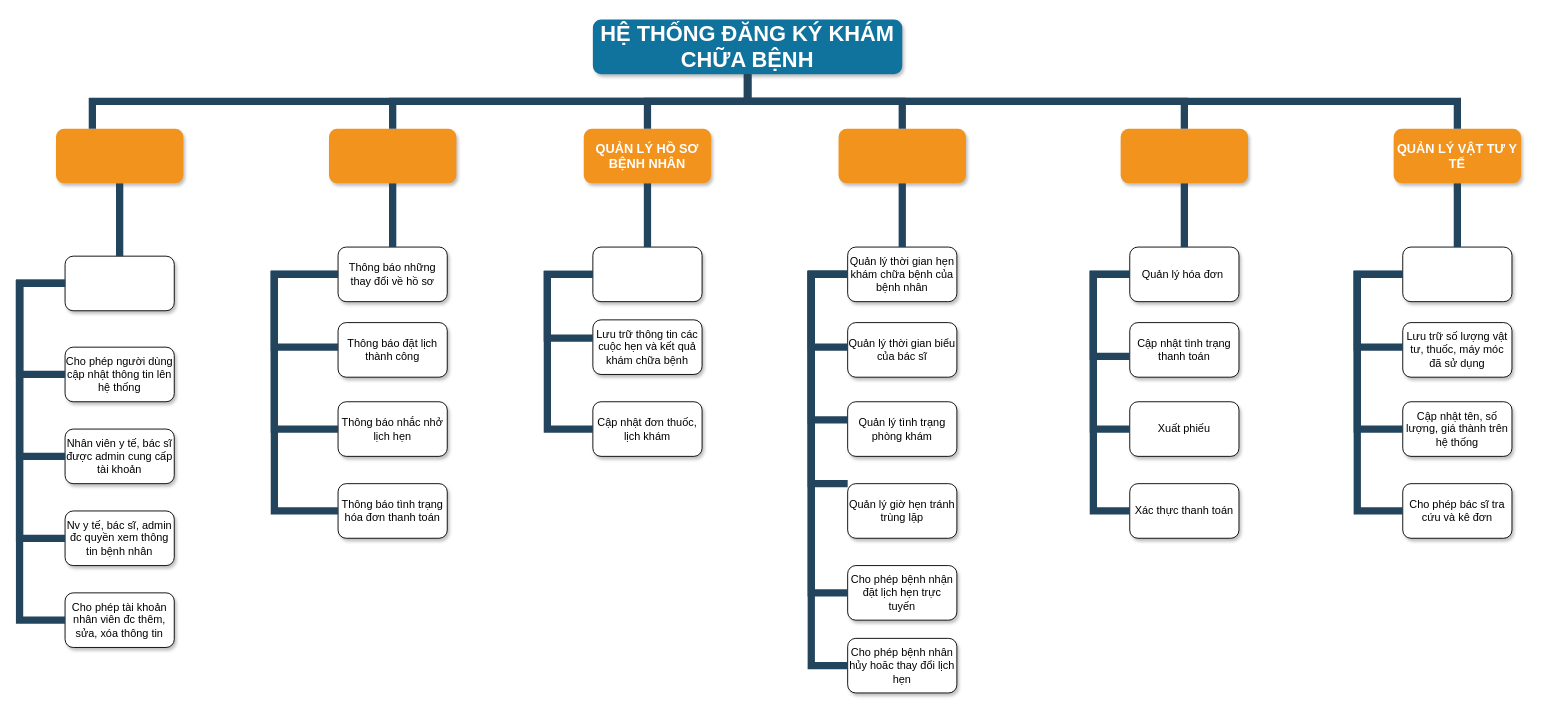
The diagram is 1542 pixels wide and 715 high, and some of its shapes have lost their labels. The centre of each missing label's shape, as x and y in pixels:
Cho phép người dùng tạo mới hoặc đăng nhập vào tài khoản: point 120,284
HỆ THỐNG THÔNG BÁO: point 393,157
Lưu trữ số lượng vật tự, thuốc, máy móc còn: point 1457,275
Lưu trữ thông tin bệnh nhân: point 648,275
QUẢN LÝ LỊCH HẸN: point 902,157
QUẢN LÝ THANH TOÁN: point 1185,157
QUẢN LÝ ĐĂNG NHẬP/ ĐĂNG KÝ: point 120,157
